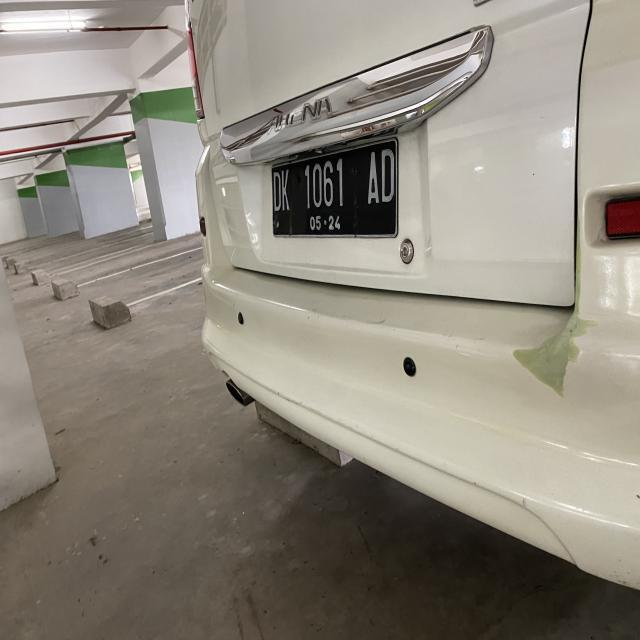0: (312, 162, 324, 206)
1: (335, 156, 347, 210), (304, 164, 312, 213)
6: (324, 158, 334, 206)
A: (368, 150, 379, 204)
D: (380, 147, 394, 205), (272, 170, 281, 212)
K: (281, 167, 292, 214)
